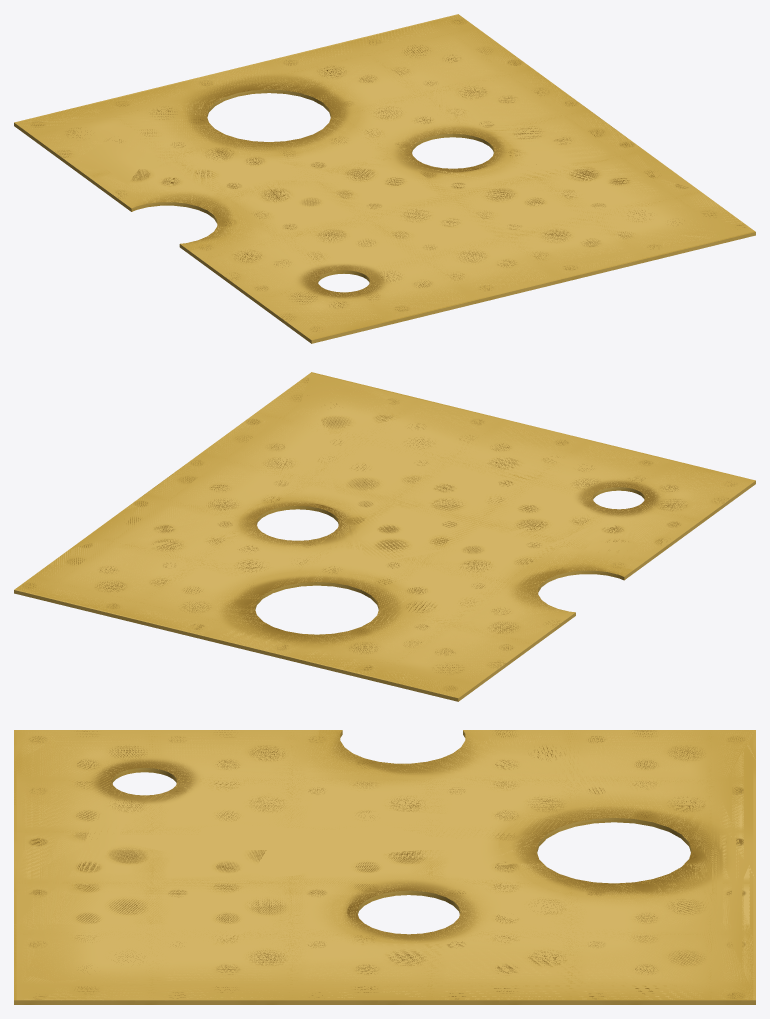
The model's file is queijo.dae.
The picture shows the model from 3 angles, top to bottom: view 1: azimuth 30°, elevation 25°; view 2: azimuth 150°, elevation 25°; view 3: azimuth 270°, elevation 25°; orthographic projection. The views are drawn at different scales.
Visible parts, largest first — view 1: Componente_1; view 2: Componente_1; view 3: Componente_1 (×3).
Part boxes in pixels (box(x1,y1,x2,y2)): Componente_1: box(14, 14, 755, 343); Componente_1: box(14, 372, 755, 701); Componente_1 (×3): box(14, 730, 755, 1004).
Size of the model in its own units: 18.05 by 20.93 by 0.1378.
